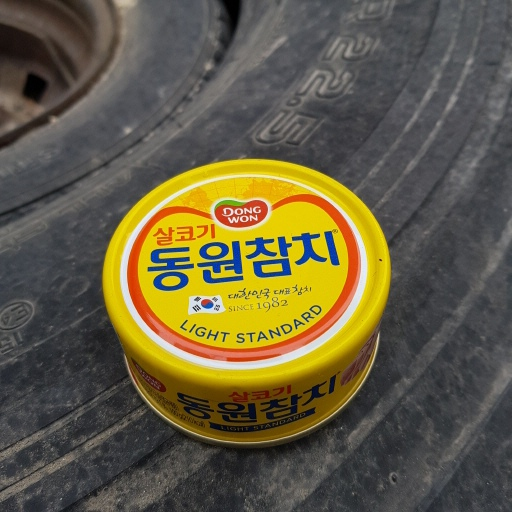Metal_1: (95, 153, 392, 446)
